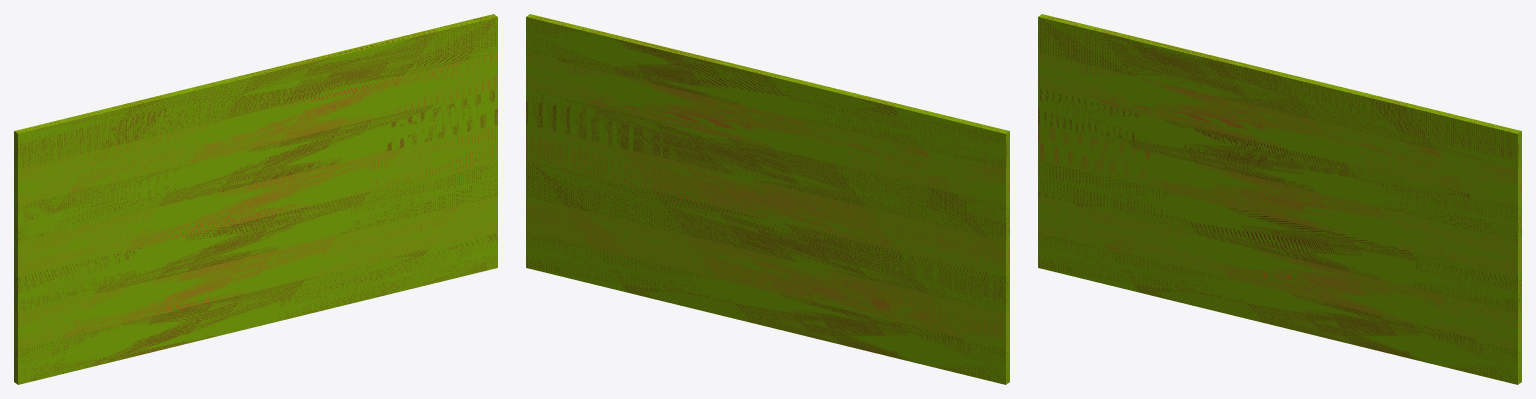
The model's file is garage_door_2.fbx.
The picture shows the model from 3 angles, left to right: view 1: azimuth 30°, elevation 25°; view 2: azimuth 150°, elevation 25°; view 3: azimuth 330°, elevation 25°; orthographic projection.
Visible parts, largest first — view 1: Mesh1_Component_4_1 Model; view 2: Mesh1_Component_4_1 Model; view 3: Mesh1_Component_4_1 Model.
Boxes of the visible parts, x1,y1,x2,y2 form: Mesh1_Component_4_1 Model: (14, 14, 497, 384); Mesh1_Component_4_1 Model: (526, 14, 1009, 384); Mesh1_Component_4_1 Model: (1038, 14, 1521, 384).
Size of the model in its own units: 1.4 by 0.7 by 0.02.
